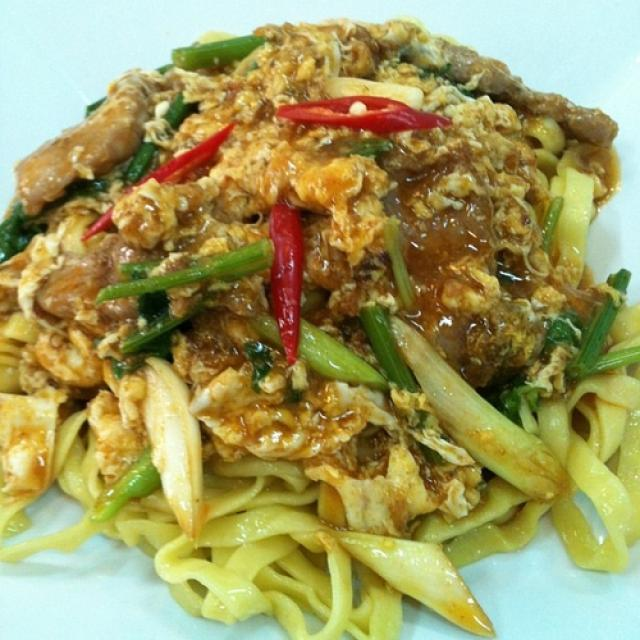面条主食: (40, 67, 549, 522)
